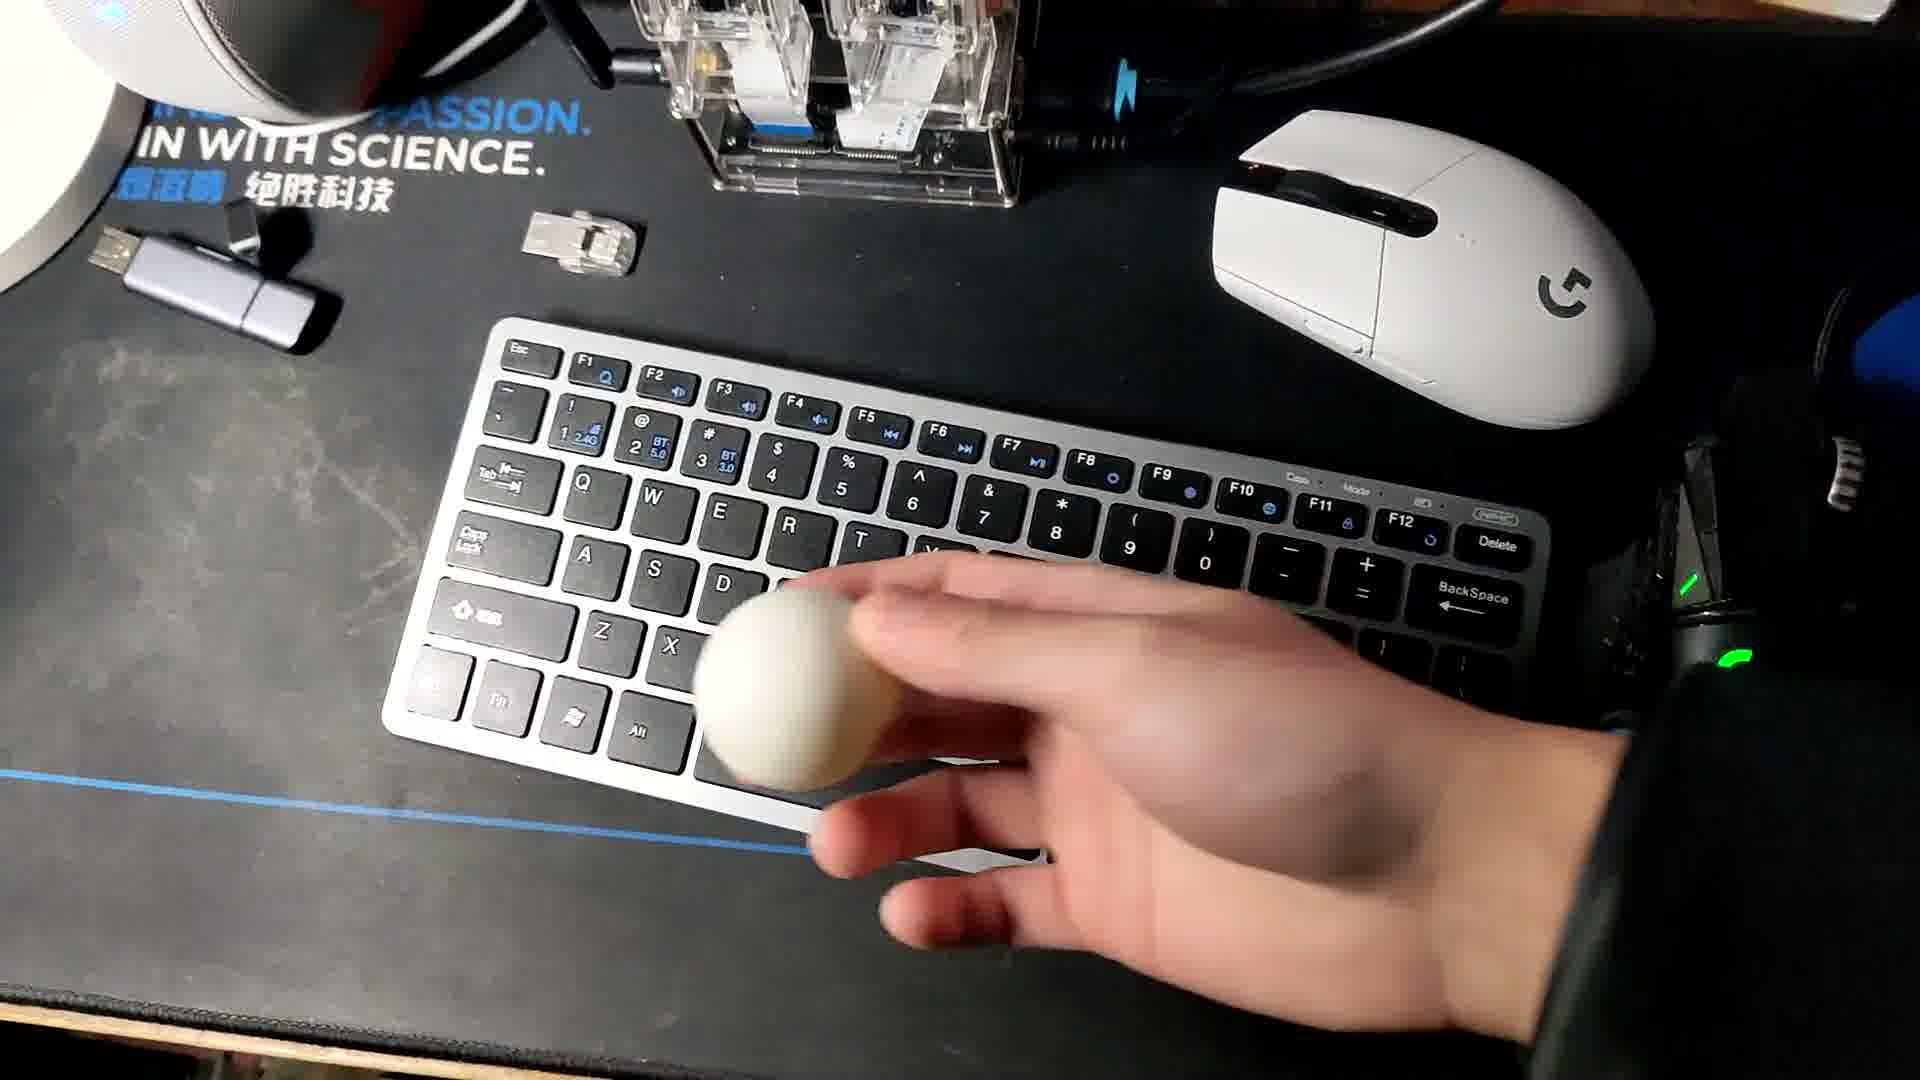Ball: (684, 585, 903, 791)
